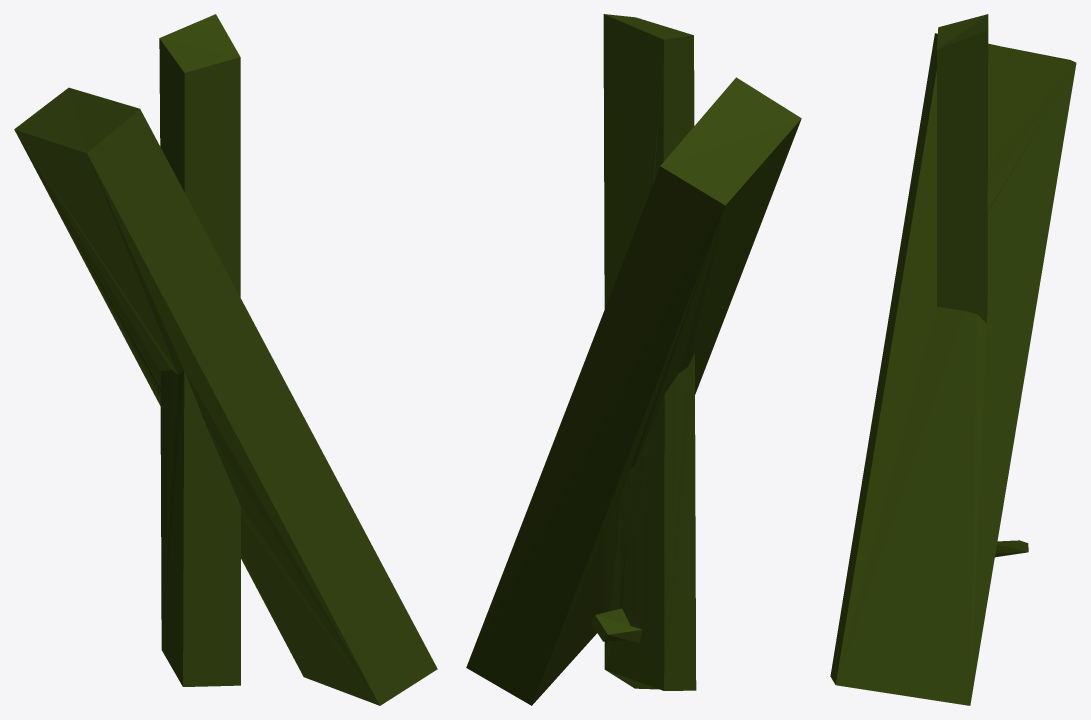
3 views of the same model, side by side, from view 1: azimuth 30°, elevation 25°; view 2: azimuth 150°, elevation 25°; view 3: azimuth 270°, elevation 25° (orthographic). The views are drawn at different scales.
Visible parts, largest first — view 1: 114_Cube.475; view 2: 114_Cube.475; view 3: 114_Cube.475.
Part boxes in pixels (x1,y1,x2,y2): 114_Cube.475: (14, 14, 437, 705); 114_Cube.475: (466, 14, 801, 705); 114_Cube.475: (830, 14, 1076, 705).
Bounding box in the file's own units: 6.08 × 13.14 × 4.63.
